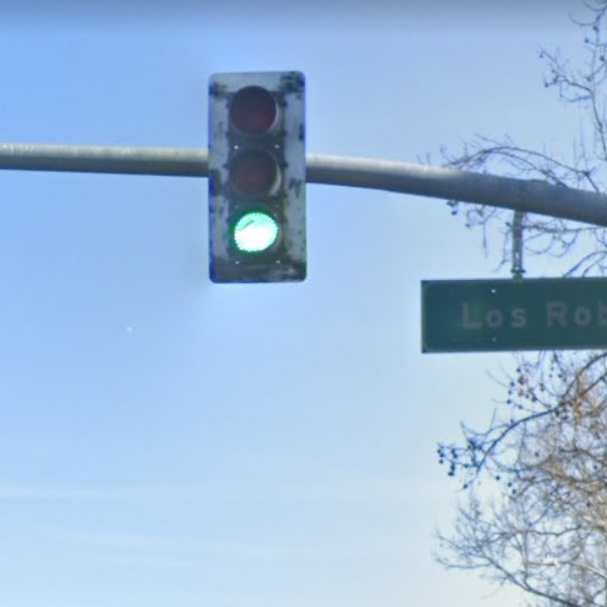green_light: (210, 76, 302, 279)
